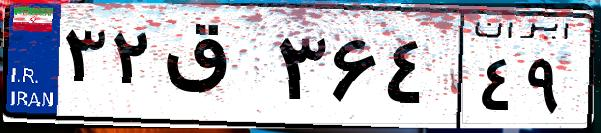2: (110, 28, 158, 98)
3: (270, 28, 330, 110), (57, 26, 110, 100)
4: (385, 28, 445, 110), (475, 38, 525, 113)
6: (330, 28, 385, 110)
9: (525, 38, 570, 115)
ق: (158, 20, 270, 120)
